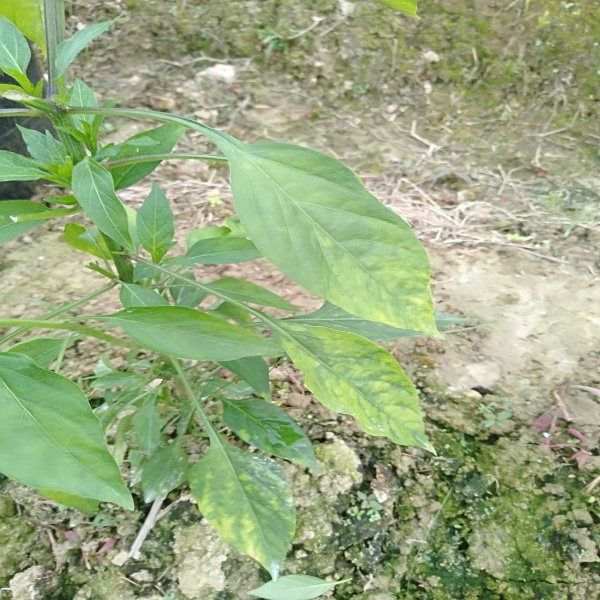blight: (33, 1, 82, 118)
iouv: (230, 144, 445, 341), (269, 321, 437, 457), (189, 449, 296, 583)
